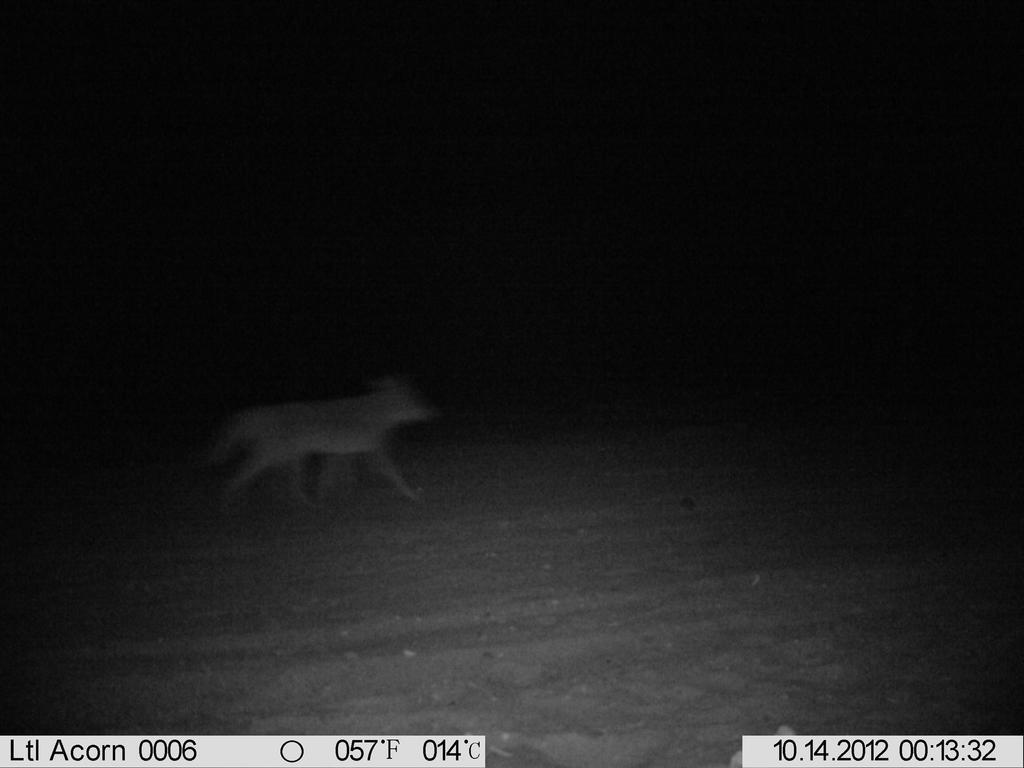coyote: (196, 369, 438, 528)
